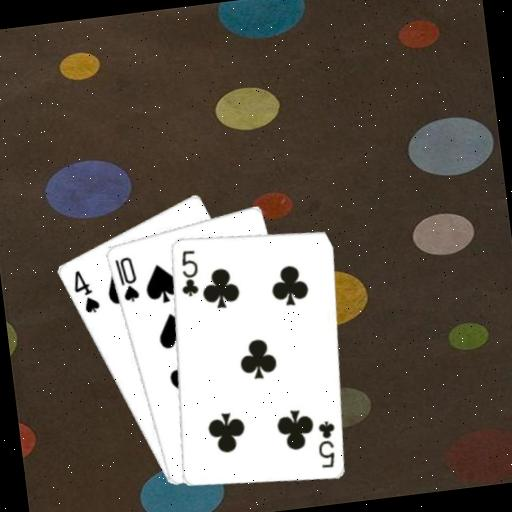10S: (111, 253, 142, 306)
4S: (68, 264, 102, 316)
5C: (311, 417, 341, 470), (174, 246, 203, 299)
